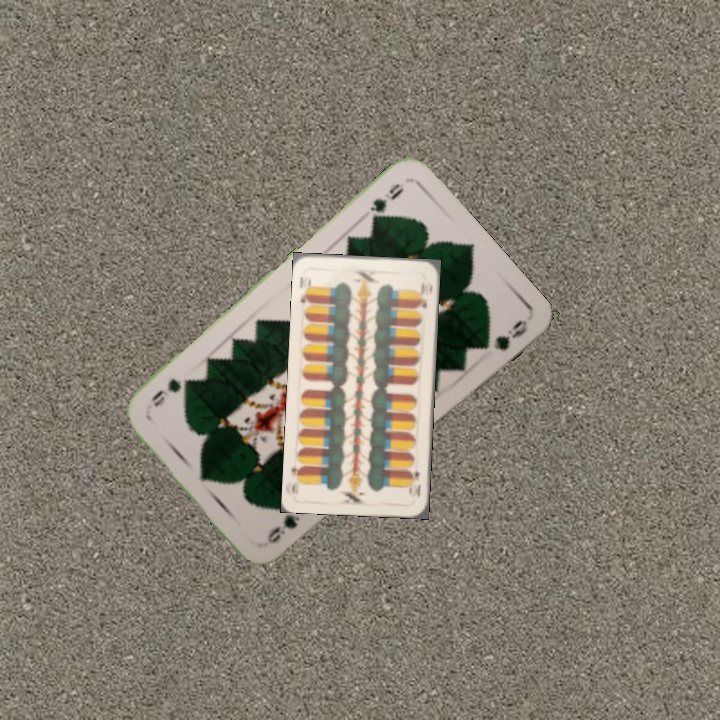E10: (405, 465, 423, 500), (296, 274, 314, 306)
G9: (365, 179, 407, 226), (263, 510, 303, 546)
